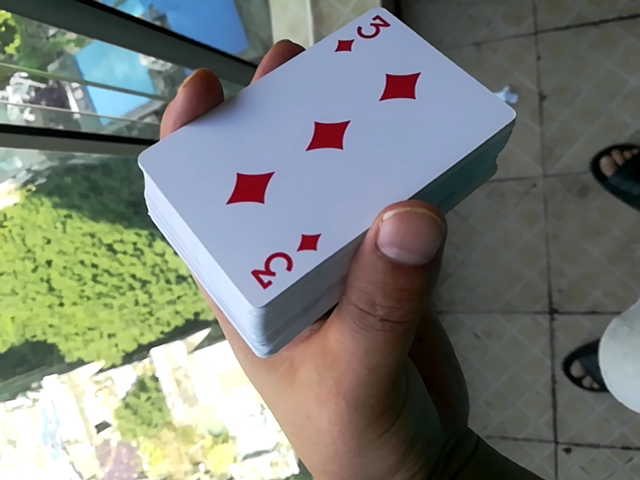fk 3: (136, 9, 483, 359)
